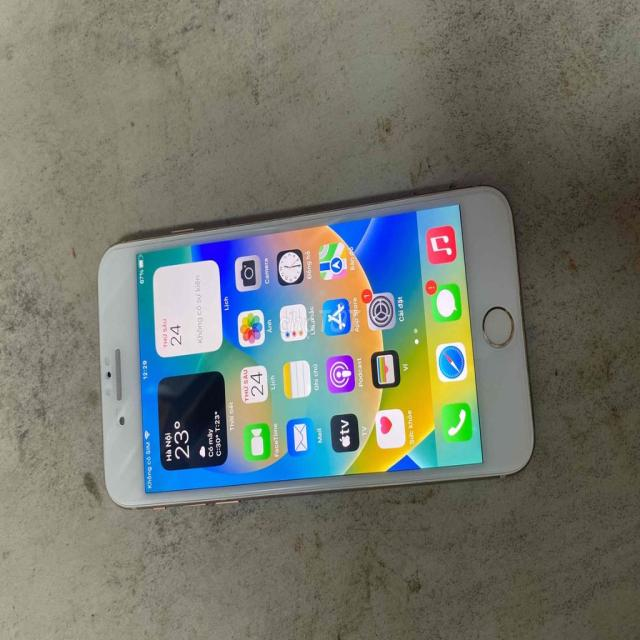scratch: (481, 321, 507, 355)
